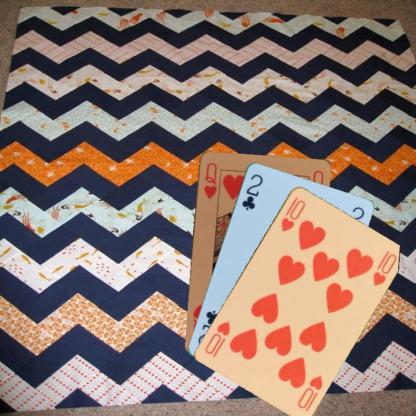10h: (294, 372, 324, 410), (278, 194, 307, 233)
2c: (239, 171, 264, 211)
Qh: (201, 159, 218, 200)
